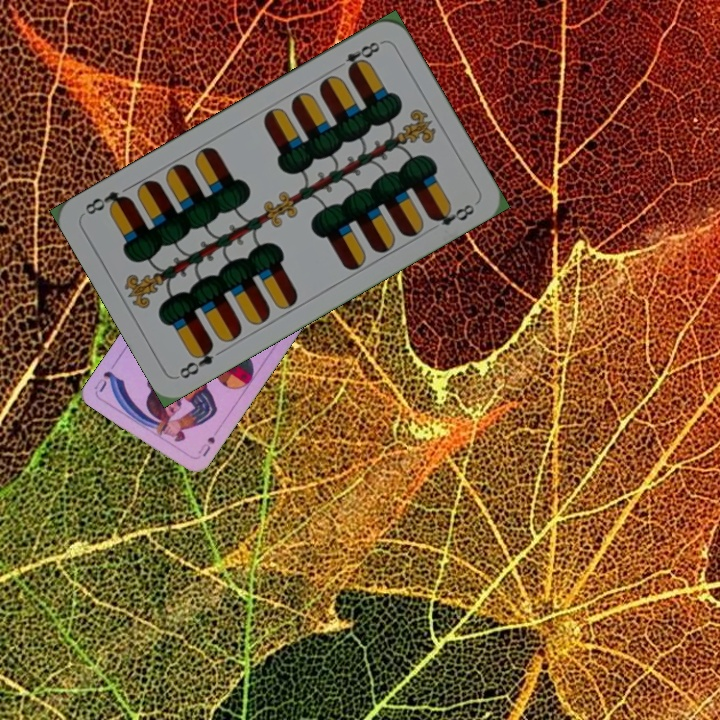E8: (331, 37, 385, 76), (175, 339, 217, 382)
SU: (193, 432, 218, 459)
